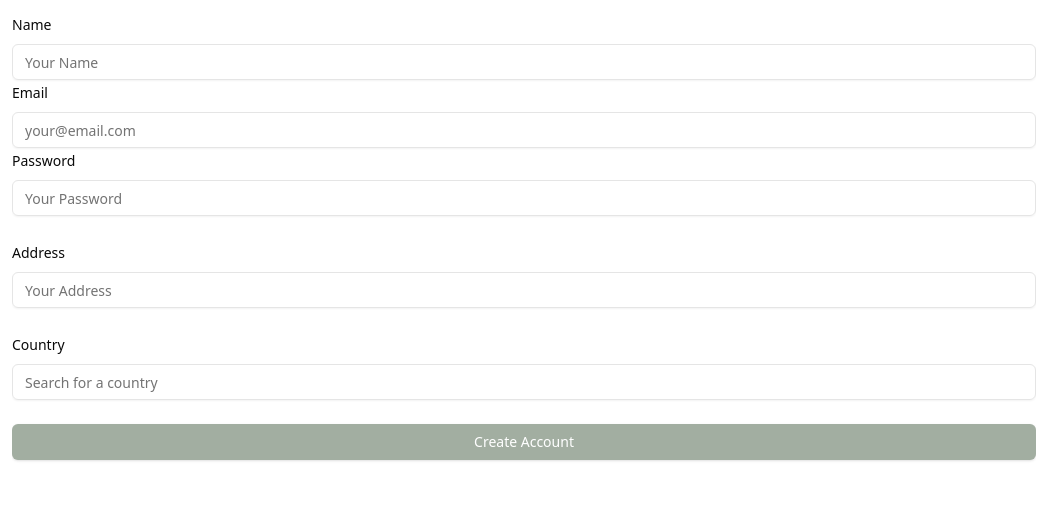
Test: SignupForm Component › searches for countries and allows selection
Type "Nor" into the field with placeholder "Search for a country" at coordinates (524, 382), box [12,364,1036,400]
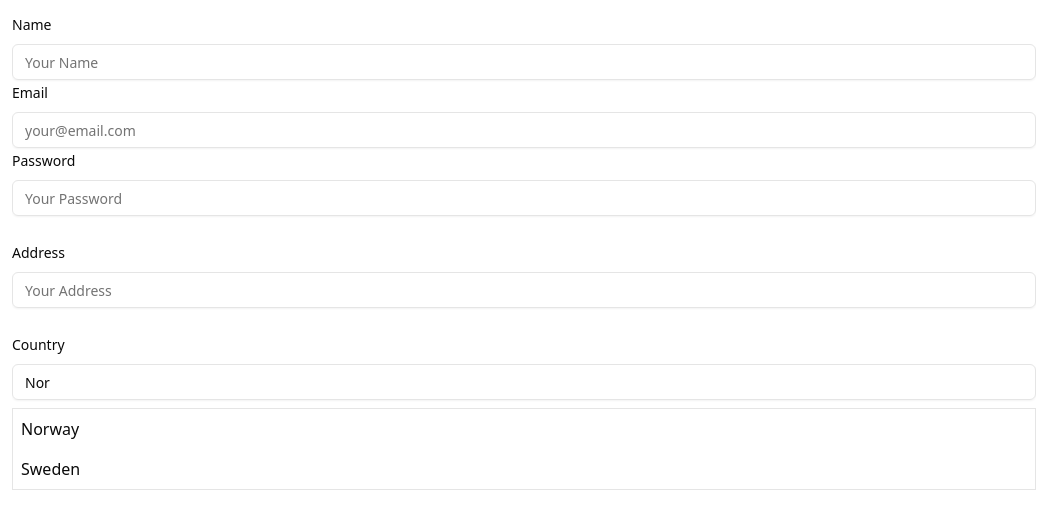
Expected: the option "Norway" is shown
Expected: the option "Sweden" is shown, [21,458,80,480]
Click the option "Norway" at coordinates (50, 429), box [21,418,79,440]
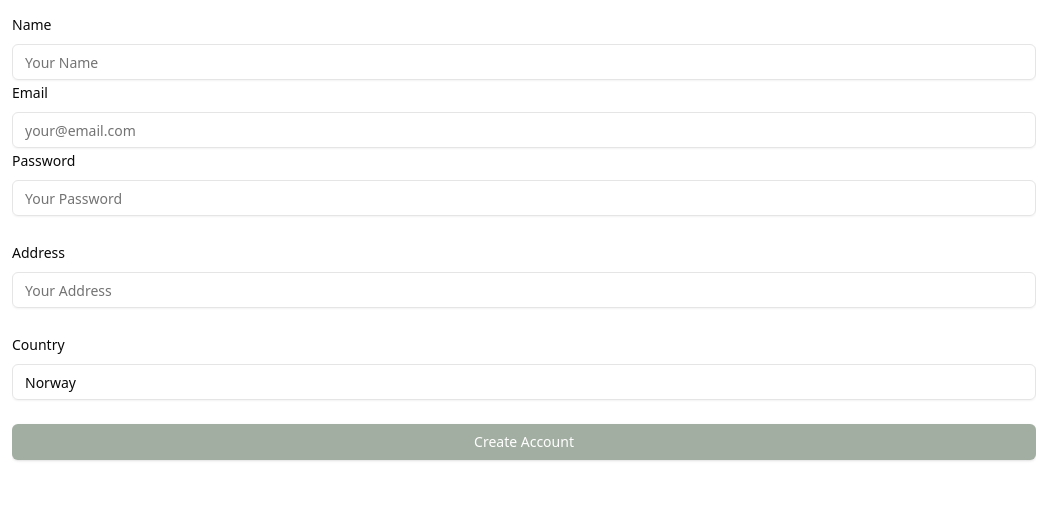
Expected: the field with placeholder "Search for a country" holds "Norway", [12,364,1036,400]
